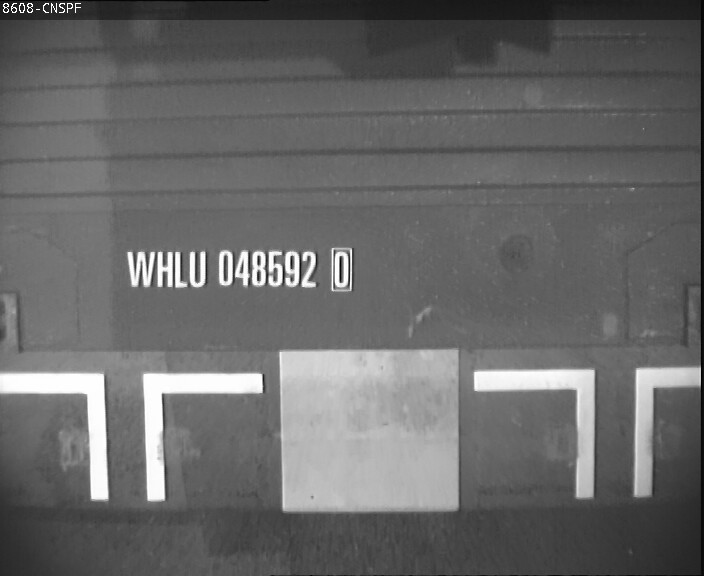groundmarker_1: (1, 373, 263, 501), (468, 368, 704, 495)
